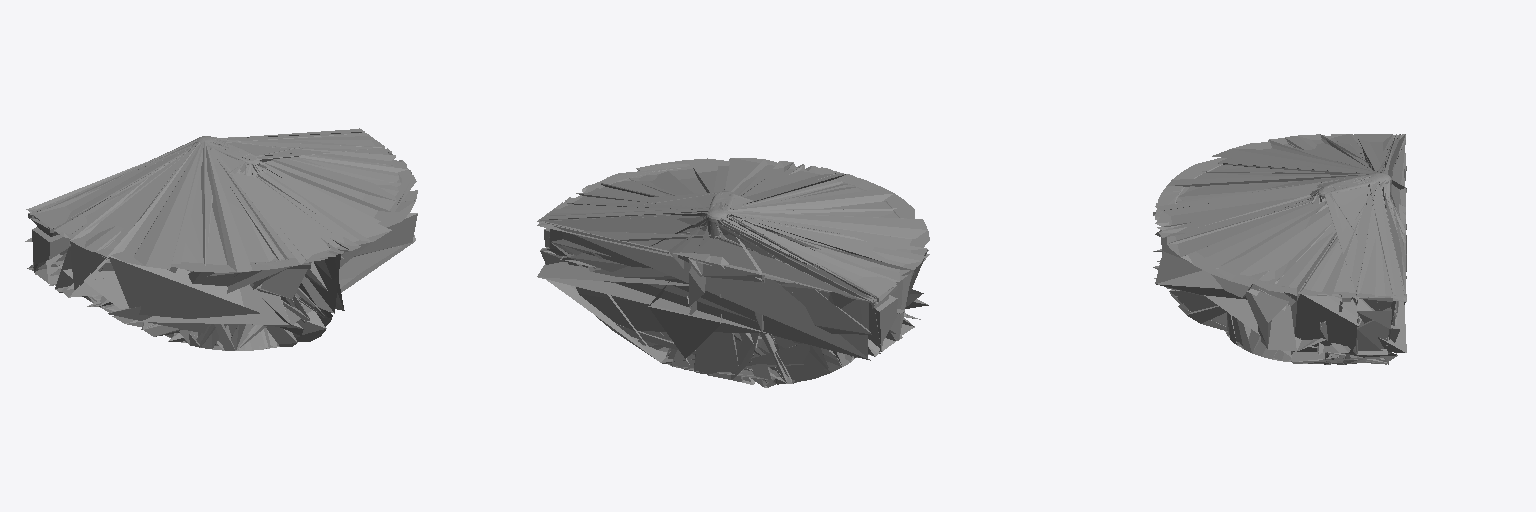
The picture shows the model from 3 angles: view 1: azimuth 30°, elevation 25°; view 2: azimuth 150°, elevation 25°; view 3: azimuth 270°, elevation 25°; orthographic projection.
Visible parts, largest first — view 1: Bowl, Flange, Valve_02; view 2: Bowl, Flange, Valve_02; view 3: Bowl, Flange, Valve_02.
Boxes of the visible parts, <box> form: Bowl: <box>25,128,417,350</box>; Flange: <box>32,134,383,350</box>; Valve_02: <box>90,136,274,350</box>; Bowl: <box>537,158,929,387</box>; Flange: <box>546,192,896,387</box>; Valve_02: <box>551,196,857,383</box>; Bowl: <box>1153,134,1406,364</box>; Flange: <box>1226,136,1393,363</box>; Valve_02: <box>1225,174,1396,363</box>.
Bounding box in the file's own units: 707 × 325 × 464.